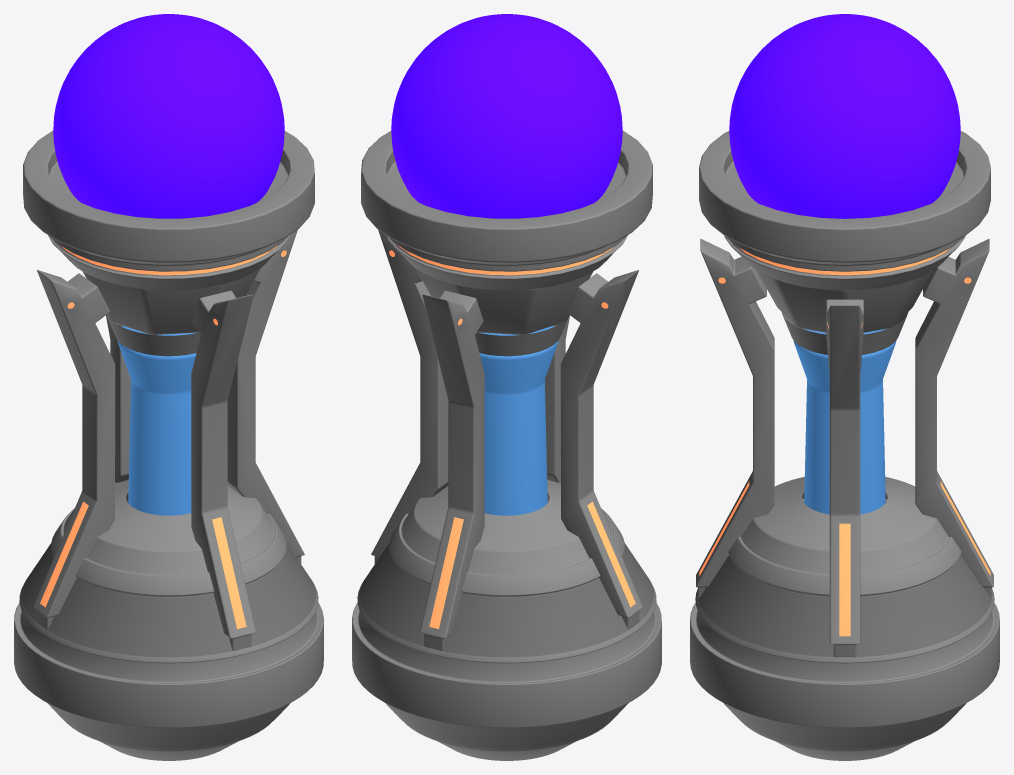
Rendered from power-generator.glb.
3 renders of one model, left to right at view 1: azimuth 30°, elevation 25°; view 2: azimuth 150°, elevation 25°; view 3: azimuth 270°, elevation 25°, orthographic.
Parts seen in each view (by area): view 1: Circle, Sphere, Circle.002, Cube.001, Cube.003, Cylinder, Cylinder.001, Circle.001; view 2: Circle, Sphere, Circle.002, Cube.001, Cube.003, Cylinder, Cylinder.001, Circle.001; view 3: Circle, Sphere, Circle.002, Cube.003, Cube.001, Cylinder, Cylinder.001, Circle.001.
Part boxes in pixels (box(x1,y1,x2,y2)): Circle: box(14, 480, 323, 760); Sphere: box(53, 14, 284, 218); Circle.002: box(23, 130, 314, 290); Cube.001: box(33, 229, 304, 629); Cube.003: box(106, 290, 255, 650); Cylinder: box(117, 325, 196, 515); Cylinder.001: box(82, 268, 260, 334); Circle.001: box(107, 317, 200, 356); Circle: box(352, 480, 661, 760); Sphere: box(391, 14, 622, 218); Circle.002: box(361, 130, 652, 290); Cube.001: box(371, 229, 642, 629); Cube.003: box(420, 290, 569, 650); Cylinder: box(479, 325, 558, 515); Cylinder.001: box(415, 268, 593, 334); Circle.001: box(475, 317, 568, 356); Circle: box(690, 477, 999, 760); Sphere: box(729, 14, 960, 218); Circle.002: box(699, 131, 990, 290); Cube.003: box(696, 239, 993, 599); Cube.001: box(826, 299, 863, 657); Cylinder: box(793, 329, 896, 514); Cylinder.001: box(757, 271, 932, 332); Circle.001: box(781, 312, 908, 354).
Bounding box in the file's own units: 1.67 × 4.26 × 1.67.
